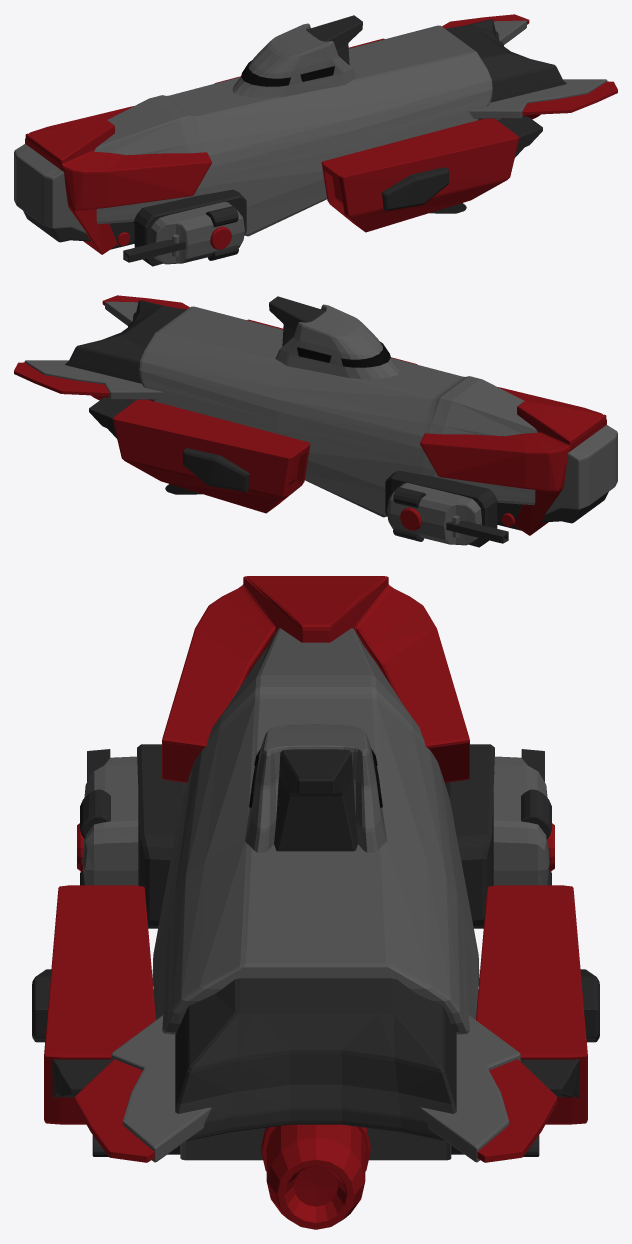
Rendered from fga_fregate1_r.glb.
The picture shows the model from 3 angles, top to bottom: view 1: azimuth 30°, elevation 25°; view 2: azimuth 150°, elevation 25°; view 3: azimuth 270°, elevation 25°; orthographic projection. The views are drawn at different scales.
Parts seen in each view (by area): view 1: Frigate_1; view 2: Frigate_1; view 3: Frigate_1.
Boxes of the visible parts, x1,y1,x2,y2 form: Frigate_1: [14, 14, 617, 266]; Frigate_1: [14, 295, 617, 547]; Frigate_1: [32, 576, 599, 1229].
Size of the model in its own units: 4009 by 1189 by 1818.
Materials: 1 (1 with a texture image).
